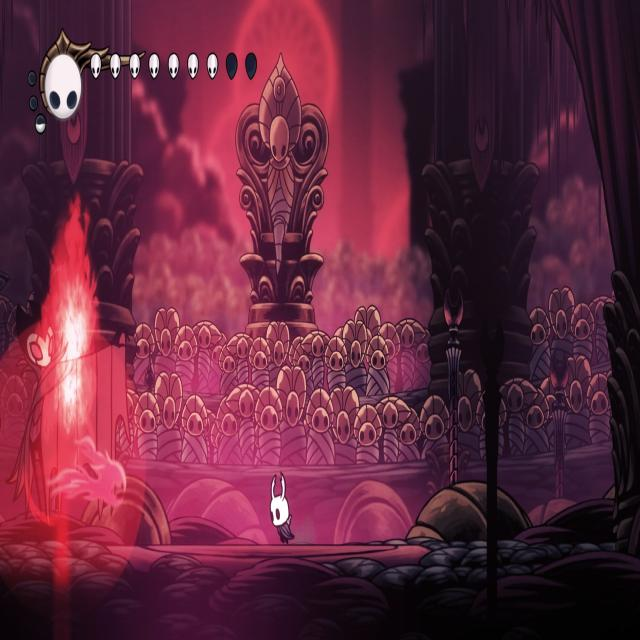Fire Bat: (48, 436, 128, 508)
Open Cloak: (5, 290, 134, 540)
Player: (268, 469, 297, 548)
